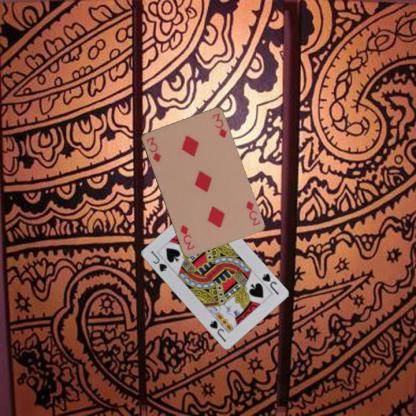3d: (144, 134, 162, 164), (243, 198, 261, 227)
Js: (259, 270, 280, 296), (148, 248, 168, 273)
